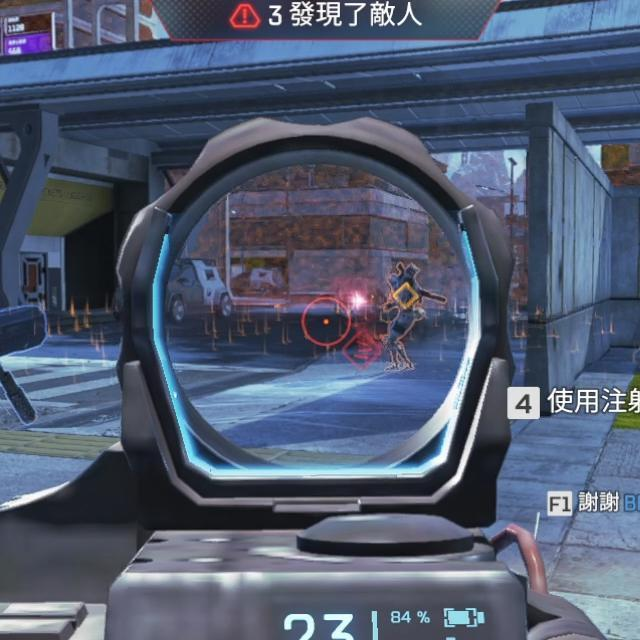avatar: (384, 263, 422, 373)
object: (391, 280, 421, 312)
